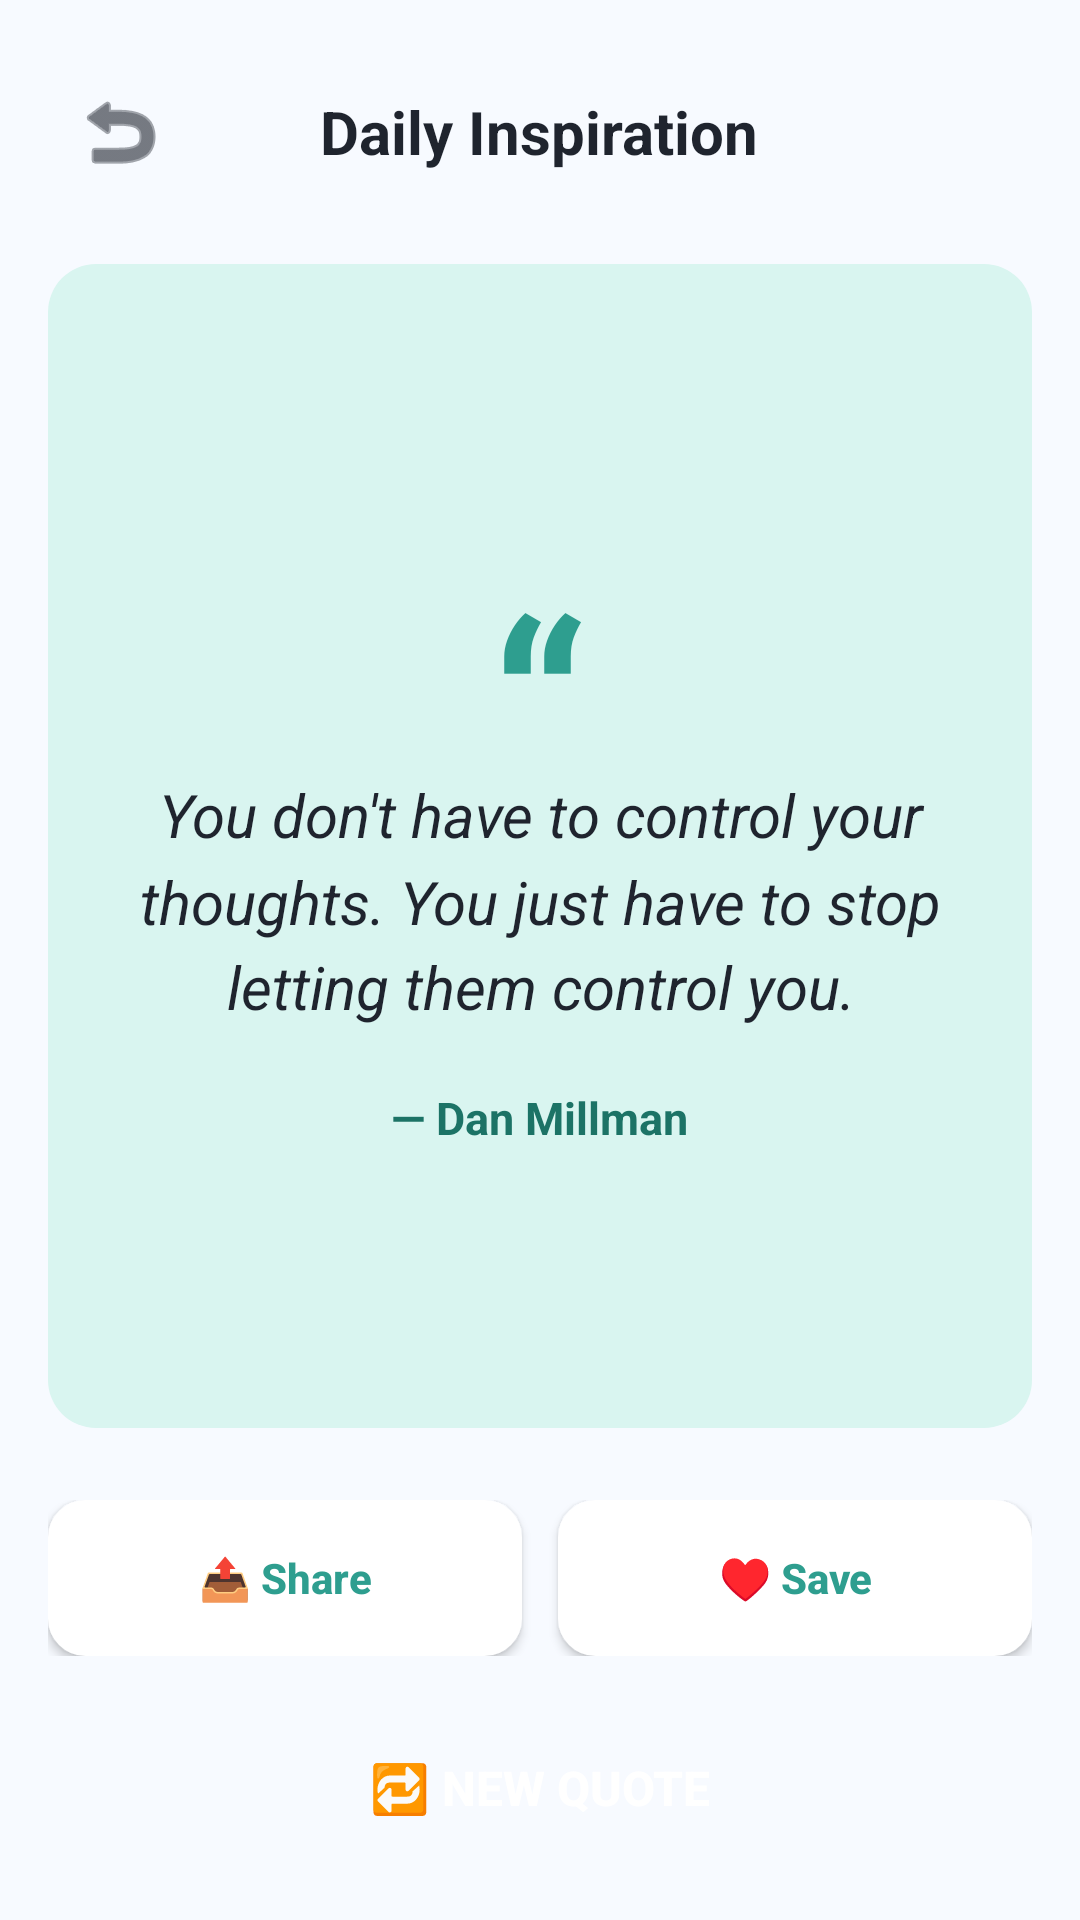

Point at icon controls on the screen. Image size 1080x1920, points as (x=x, y=y).
Back: (x=121, y=132)
